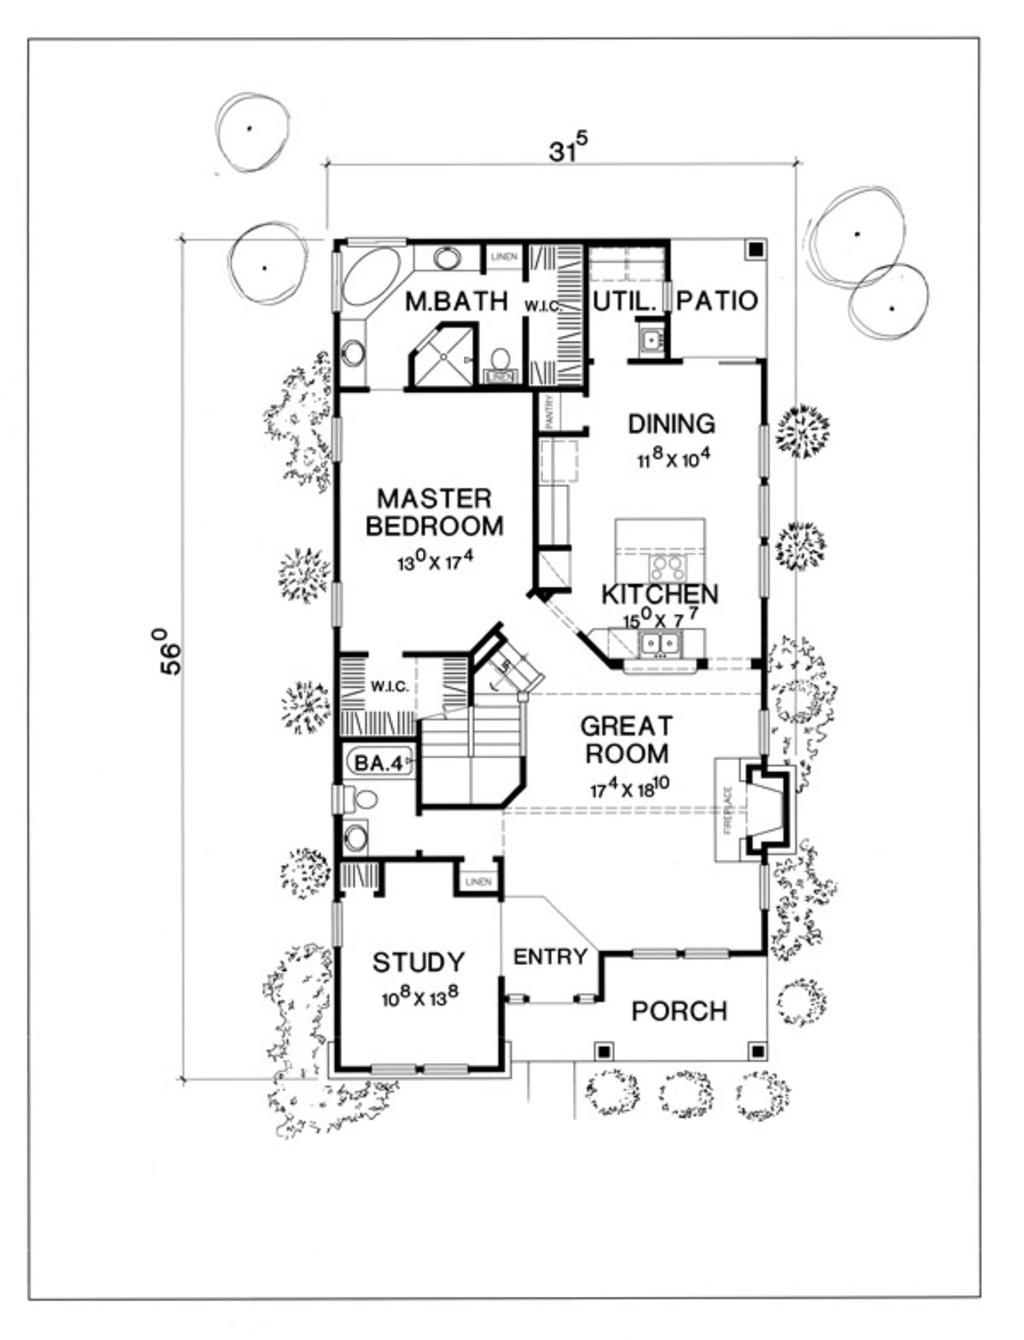large_sink: (326, 774, 381, 819), (483, 345, 518, 387)
small_sink: (424, 241, 485, 279), (337, 814, 376, 863), (343, 329, 370, 387)
stairs: (416, 614, 543, 808)
twin_sink: (635, 614, 693, 681)
window: (331, 247, 410, 324), (756, 410, 781, 593), (362, 1054, 477, 1081), (631, 943, 726, 966), (328, 401, 351, 464), (326, 890, 347, 954)
